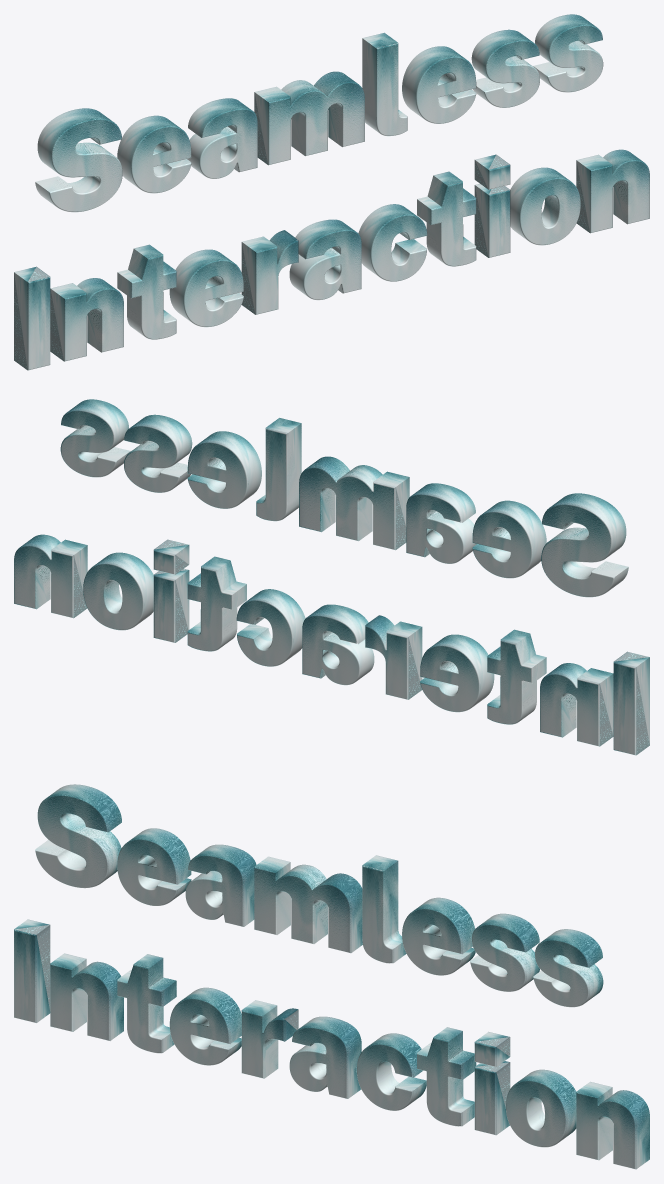
The model's file is seamless.glb.
The picture shows the model from 3 angles, top to bottom: view 1: azimuth 30°, elevation 25°; view 2: azimuth 150°, elevation 25°; view 3: azimuth 330°, elevation 25°; orthographic projection.
Parts seen in each view (by area): view 1: Text; view 2: Text; view 3: Text.
Part boxes in pixels (box(x1,y1,x2,y2)): Text: box(14, 14, 649, 370); Text: box(14, 399, 649, 755); Text: box(14, 784, 649, 1169).
Size of the model in its own units: 10.66 by 3.91 by 0.4485.
1 material, 1 textured.
